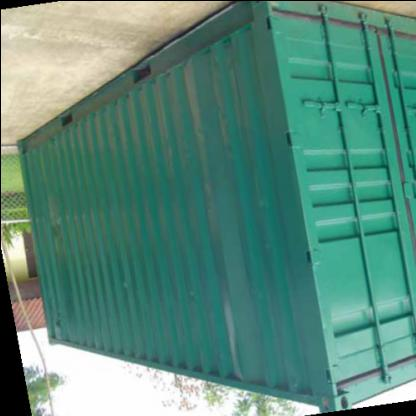Damage: (206, 48, 250, 152), (213, 284, 249, 384), (70, 105, 128, 159), (41, 204, 108, 248)
